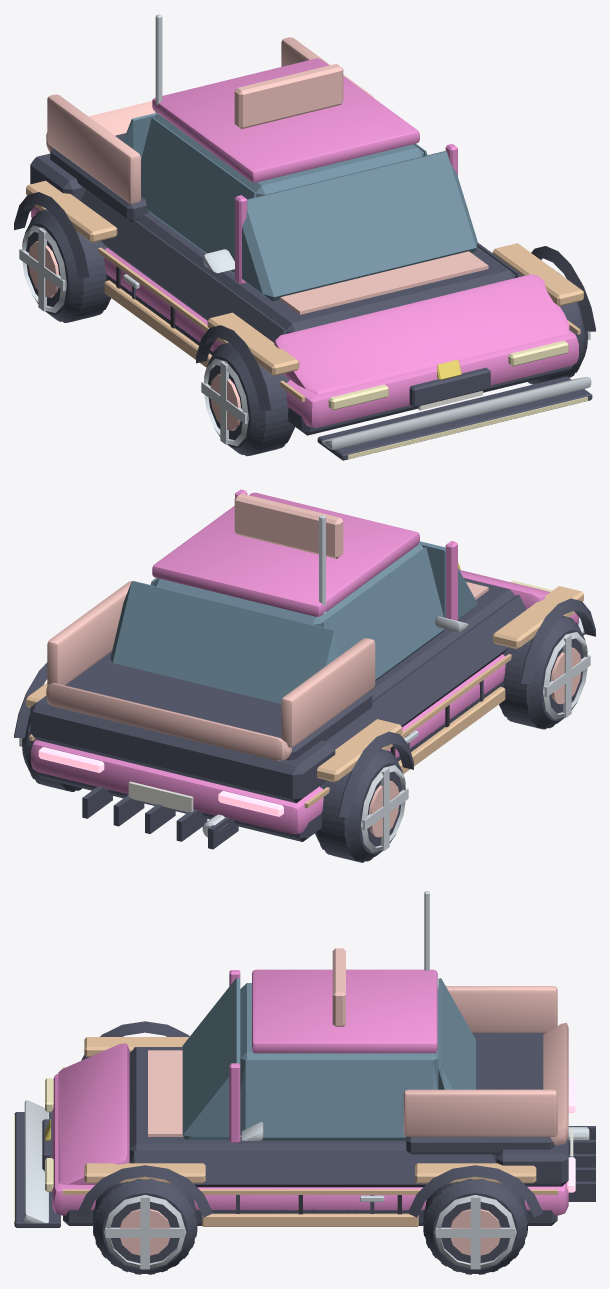
File: civic_scoot.fbx
3 renders of one model, top to bottom at view 1: azimuth 30°, elevation 25°; view 2: azimuth 150°, elevation 25°; view 3: azimuth 270°, elevation 25°, orthographic. The views are drawn at different scales.
Visible parts, largest first — view 1: Body, Glass, Trim, Accent2, Accent, Accent3, Light3, Wheel_FR, Wheel_RR, Metal, Light, Metal2 (+1 smaller); view 2: Trim, Glass, Body, Accent2, Accent, Light3, Metal, Wheel_RR, Wheel_FR, Light2, Metal2, Accent4 (+2 smaller); view 3: Trim, Body, Glass, Accent2, Accent, Metal, Wheel_FL, Wheel_RL, Accent3, Metal2, Light3, Light (+1 smaller).
Part boxes in pixels (x1,y1,x2,y2): Body: (31,58,578,427); Glass: (123,113,477,301); Trim: (14,133,595,460); Accent2: (46,37,488,314); Accent: (26,180,583,401); Accent3: (155,14,591,449); Light3: (234,63,343,128); Wheel_FR: (204,342,294,456); Wheel_RR: (22,209,111,322); Metal: (19,225,590,446); Light: (328,340,587,459); Metal2: (28,241,240,430); Trim: (14,578,595,849); Glass: (110,541,477,703); Body: (31,489,578,833); Accent2: (46,581,488,760); Accent: (26,586,583,808); Light3: (234,493,343,558); Metal: (19,632,590,852); Wheel_RR: (315,749,405,862); Wheel_FR: (499,616,587,729); Light2: (38,747,283,816); Metal2: (368,647,580,837); Accent4: (128,781,193,812); Trim: (14,1021,595,1227); Body: (52,969,568,1215); Glass: (182,977,475,1140); Accent2: (148,986,568,1145); Accent: (62,1037,558,1226); Metal: (104,1127,589,1269); Wheel_FL: (93,1179,197,1274); Wheel_RL: (423,1179,527,1274); Accent3: (24,891,429,1223); Metal2: (120,1209,500,1255); Light3: (332,948,345,1026); Light: (14,1078,53,1224).
Bounding box in the file's own units: 3.3 × 2.78 × 5.3.
